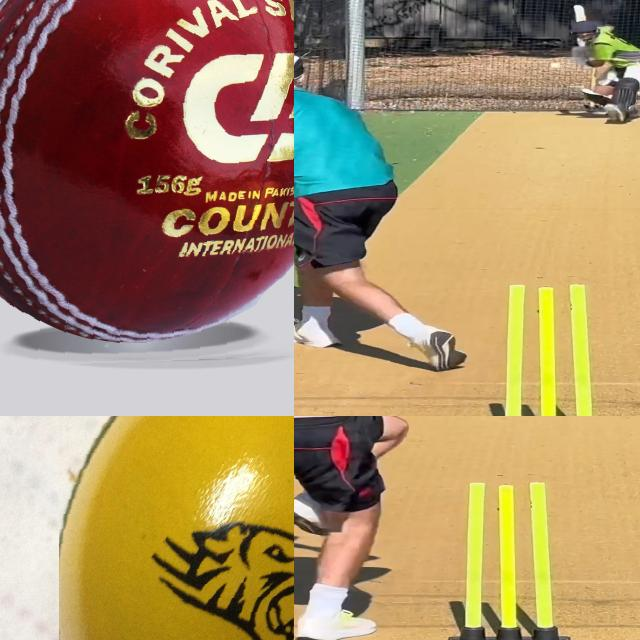Cricket ball: (0, 0, 294, 370), (58, 416, 294, 640), (550, 62, 565, 71)
Stumps: (497, 282, 601, 416)
